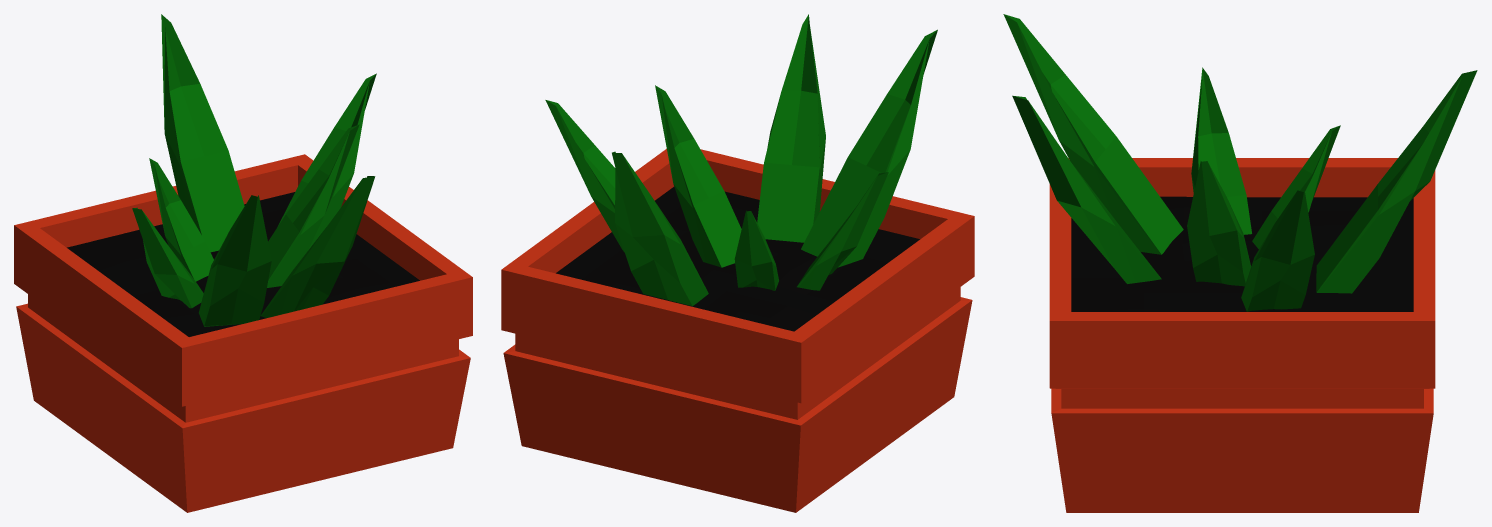
File: aloe_in_vaza.obj
The picture shows the model from 3 angles, left to right: view 1: azimuth 30°, elevation 25°; view 2: azimuth 150°, elevation 25°; view 3: azimuth 270°, elevation 25°; orthographic projection. The views are drawn at different scales.
Parts seen in each view (by area): view 1: Cube.008, Cube.001, Plane, Cube.006, Cube.004, Cube.003, Cube.005, Cube.007, Cube.002; view 2: Cube.008, Plane, Cube.004, Cube.006, Cube.001, Cube.003, Cube.007, Cube.002, Cube.005; view 3: Cube.008, Plane, Cube.006, Cube.001, Cube.004, Cube.007, Cube.003, Cube.002, Cube.005.
Boxes of the visible parts, left/top/right/bottom form: Cube.008: left=14, top=154, right=472, bottom=512; Cube.001: left=161, top=14, right=244, bottom=252; Plane: left=67, top=192, right=419, bottom=336; Cube.006: left=198, top=195, right=271, bottom=326; Cube.004: left=260, top=176, right=375, bottom=318; Cube.003: left=267, top=124, right=359, bottom=287; Cube.005: left=149, top=158, right=213, bottom=281; Cube.007: left=278, top=73, right=376, bottom=250; Cube.002: left=132, top=207, right=203, bottom=308; Cube.008: left=501, top=149, right=974, bottom=512; Plane: left=556, top=187, right=919, bottom=331; Cube.004: left=757, top=14, right=825, bottom=242; Cube.006: left=801, top=29, right=937, bottom=267; Cube.001: left=612, top=151, right=708, bottom=306; Cube.003: left=655, top=85, right=741, bottom=267; Cube.007: left=545, top=100, right=624, bottom=252; Cube.002: left=797, top=172, right=888, bottom=290; Cube.005: left=734, top=210, right=778, bottom=290; Cube.008: left=1049, top=158, right=1435, bottom=512; Plane: left=1071, top=196, right=1413, bottom=311; Cube.006: left=1003, top=14, right=1183, bottom=254; Cube.001: left=1316, top=70, right=1477, bottom=293; Cube.004: left=1012, top=95, right=1161, bottom=283; Cube.007: left=1241, top=190, right=1314, bottom=311; Cube.003: left=1187, top=161, right=1251, bottom=286; Cube.002: left=1191, top=67, right=1251, bottom=234; Cube.005: left=1252, top=125, right=1340, bottom=248.
Bounding box in the file's own units: 1.51 × 1.56 × 1.76.
